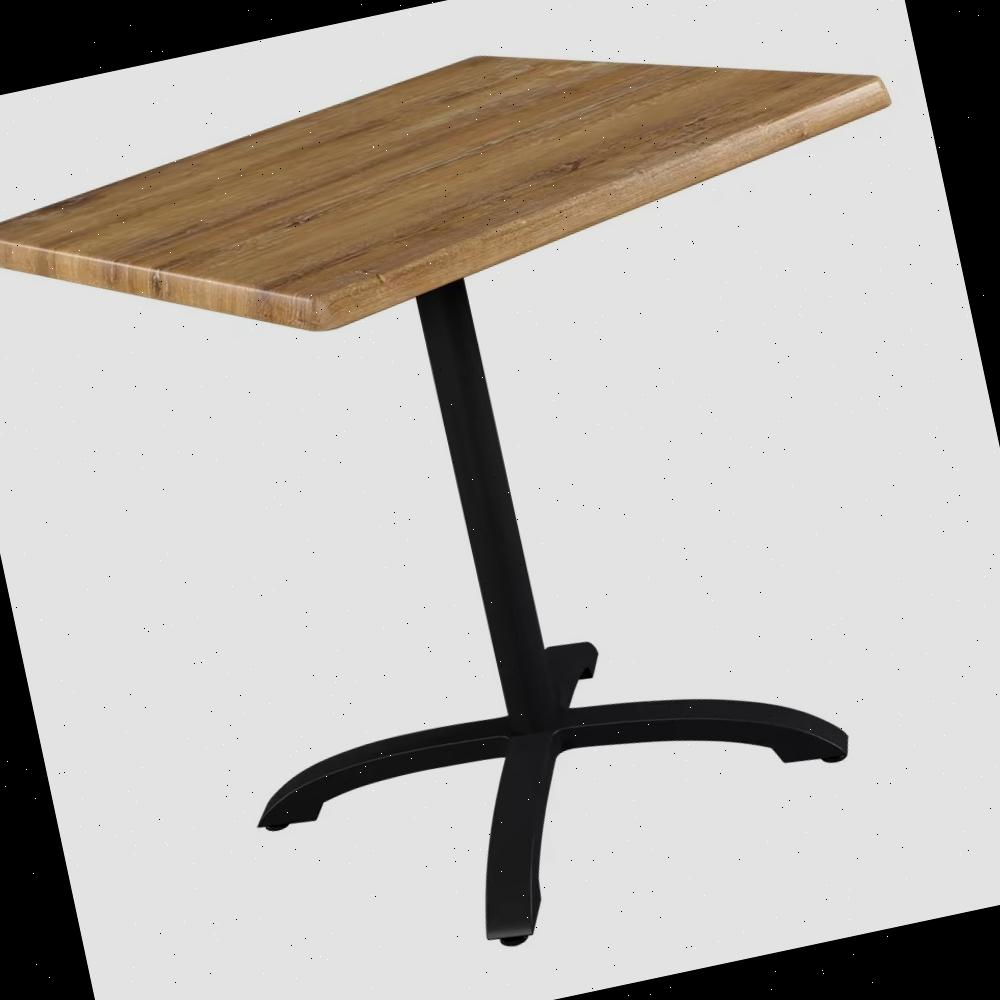Clean Table: (0, 0, 975, 539)
